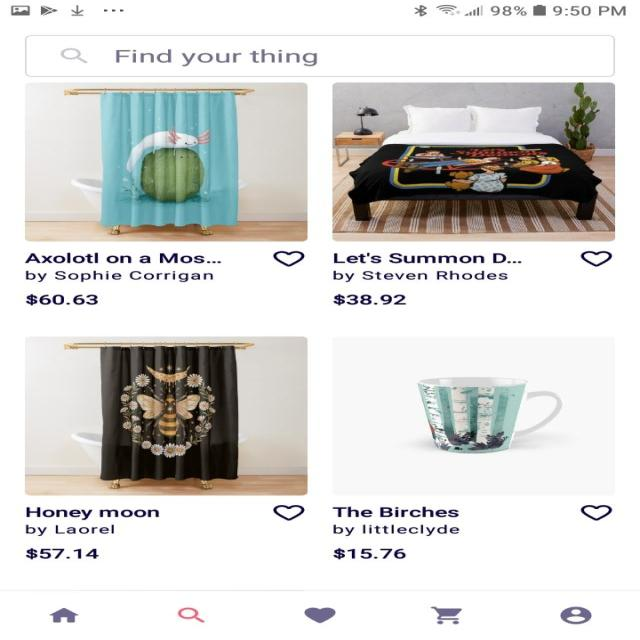EditText: (24, 35, 614, 77)
Icon: (429, 605, 462, 624), (559, 606, 591, 624), (272, 504, 305, 521), (273, 250, 305, 267), (304, 606, 336, 623), (580, 505, 612, 520), (580, 251, 612, 266), (48, 607, 78, 622), (60, 48, 88, 63), (177, 607, 204, 622)
Image: (25, 82, 308, 242), (24, 336, 308, 495), (332, 82, 614, 242), (332, 336, 614, 495)
Text: (25, 252, 222, 282), (332, 252, 522, 282), (25, 507, 159, 536), (332, 506, 458, 536), (115, 49, 318, 67), (332, 293, 406, 306), (25, 293, 98, 306), (332, 547, 407, 559), (26, 548, 98, 558)
